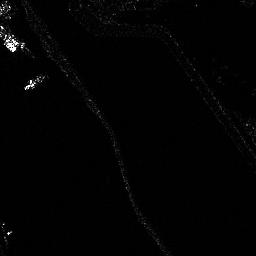ship: (24, 73, 46, 90), (1, 32, 16, 54), (3, 34, 18, 56)
